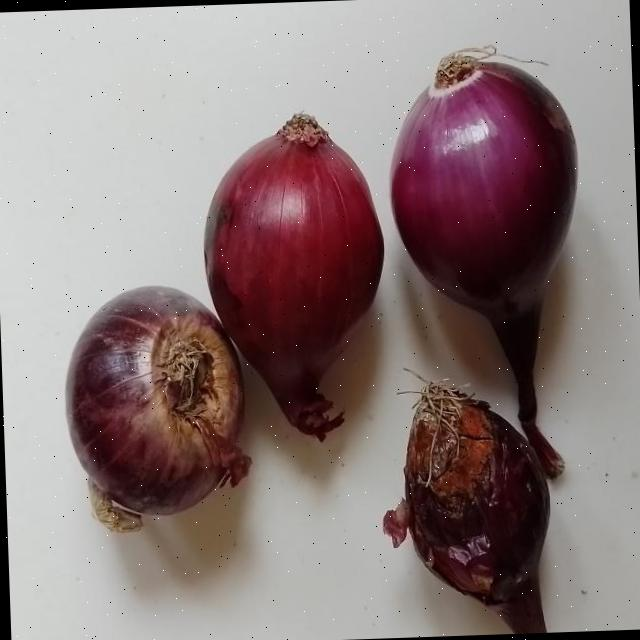Onion: (392, 58, 577, 475), (204, 112, 383, 418), (65, 285, 241, 513), (404, 381, 548, 633)
